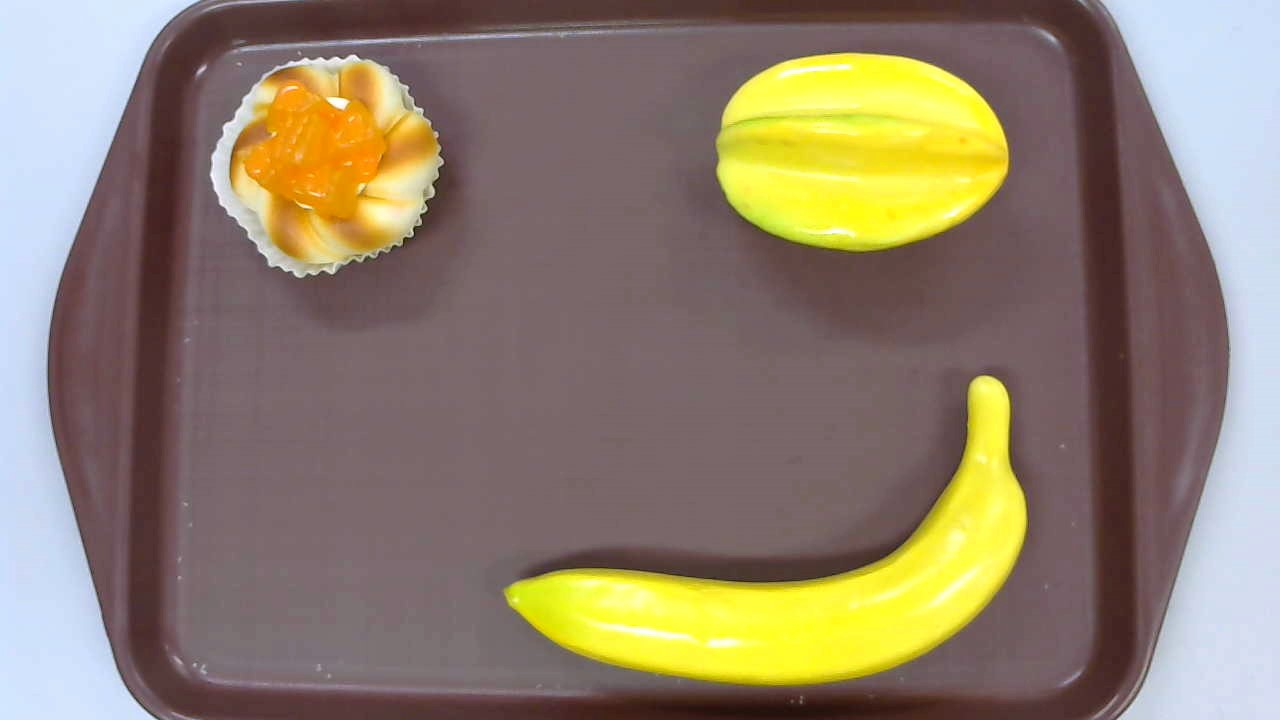banana: (503, 374, 1028, 687)
mango tart: (210, 53, 444, 280)
star fruit: (715, 53, 1008, 255)
